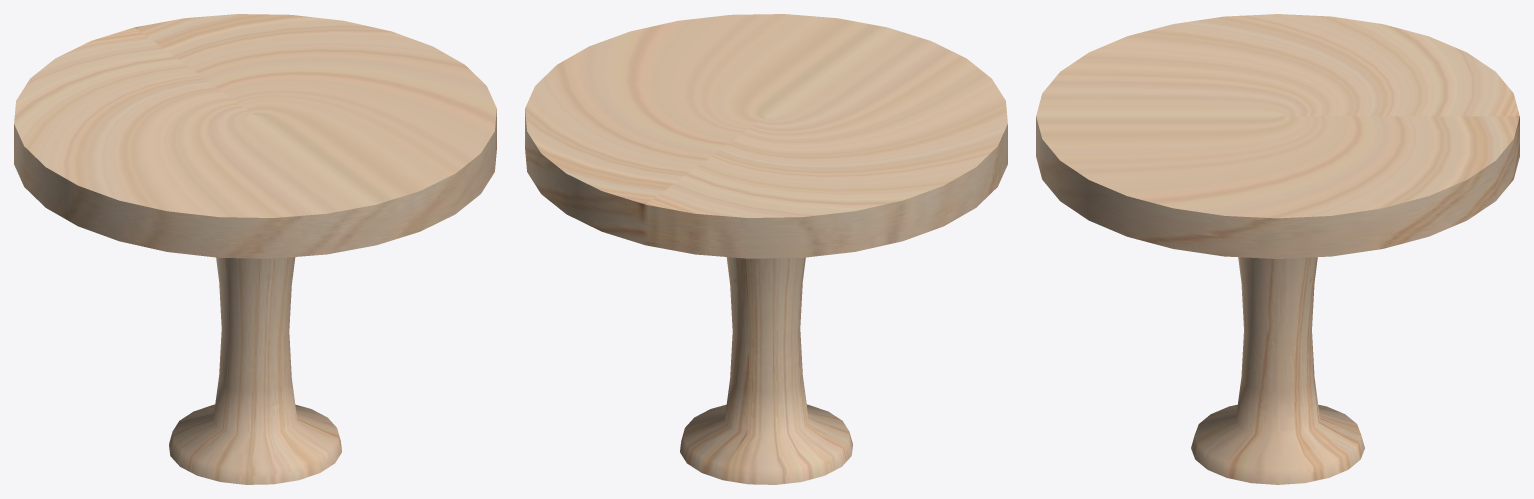
File: 小圓桌.FBX
3 renders of one model, left to right at view 1: azimuth 30°, elevation 25°; view 2: azimuth 150°, elevation 25°; view 3: azimuth 270°, elevation 25°, orthographic.
Parts seen in each view (by area): view 1: Cylinder001, Cylinder002; view 2: Cylinder001, Cylinder002; view 3: Cylinder001, Cylinder002.
Part boxes in pixels (left/top/right/bottom): Cylinder001: left=14, top=14, right=496, bottom=258; Cylinder002: left=169, top=257, right=341, bottom=484; Cylinder001: left=525, top=14, right=1007, bottom=258; Cylinder002: left=680, top=257, right=852, bottom=484; Cylinder001: left=1036, top=14, right=1519, bottom=258; Cylinder002: left=1191, top=257, right=1364, bottom=484.
Bounding box in the file's own units: 37.61 × 28.48 × 37.61.
Materials: 1 (1 with a texture image).
